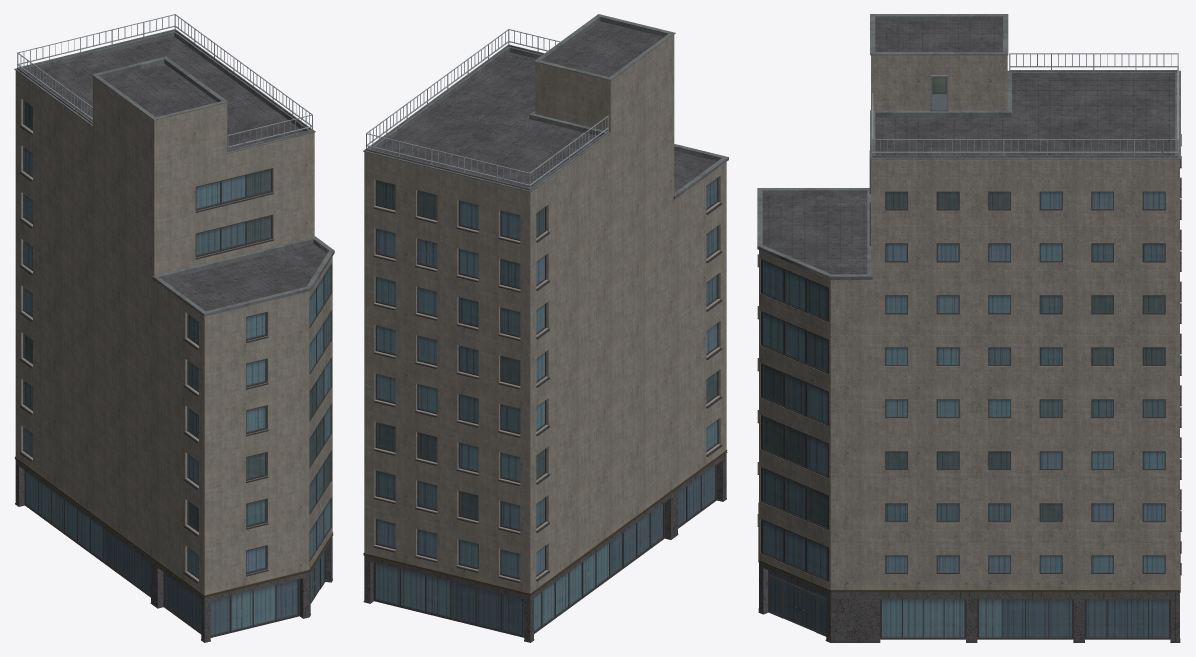
File: jctBld24_12B.fbx
3 views of the same model, side by side, from view 1: azimuth 30°, elevation 25°; view 2: azimuth 150°, elevation 25°; view 3: azimuth 270°, elevation 25° (orthographic). The views are drawn at different scales.
Parts seen in each view (by area): view 1: jctBld24_12B_LOD0; view 2: jctBld24_12B_LOD0; view 3: jctBld24_12B_LOD0.
Part boxes in pixels (bbox=[...]): jctBld24_12B_LOD0: bbox=[14, 14, 334, 642]; jctBld24_12B_LOD0: bbox=[363, 14, 728, 642]; jctBld24_12B_LOD0: bbox=[757, 14, 1181, 642].
Size of the model in its own units: 1170 by 3335 by 2370.
